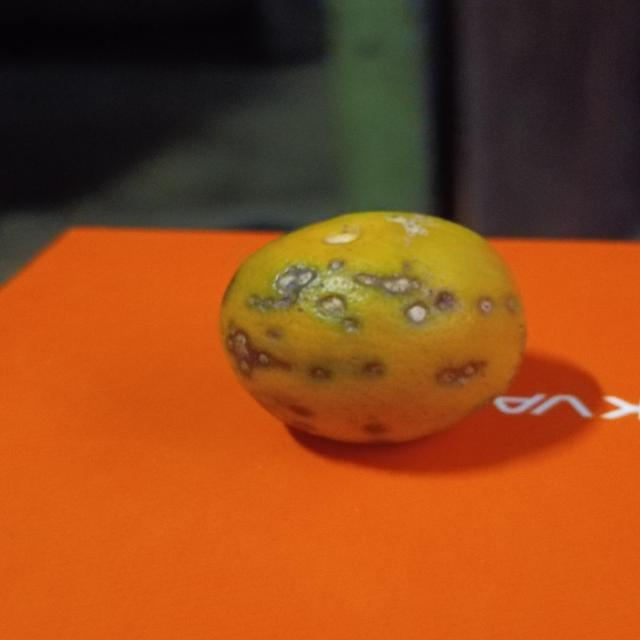black spot: (217, 204, 539, 451)
